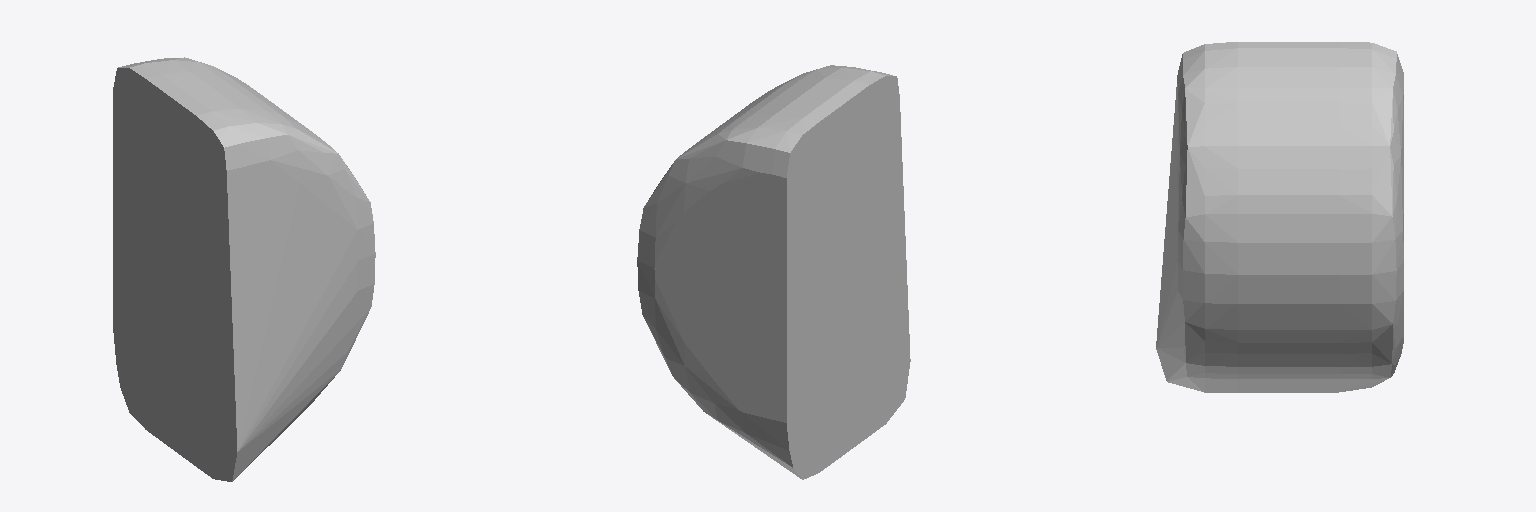
The model's file is block_2_collision_7.obj.
The picture shows the model from 3 angles: view 1: azimuth 30°, elevation 25°; view 2: azimuth 150°, elevation 25°; view 3: azimuth 270°, elevation 25°; orthographic projection.
Size of the model in its own units: 0.0088 by 0.0184 by 0.0117.